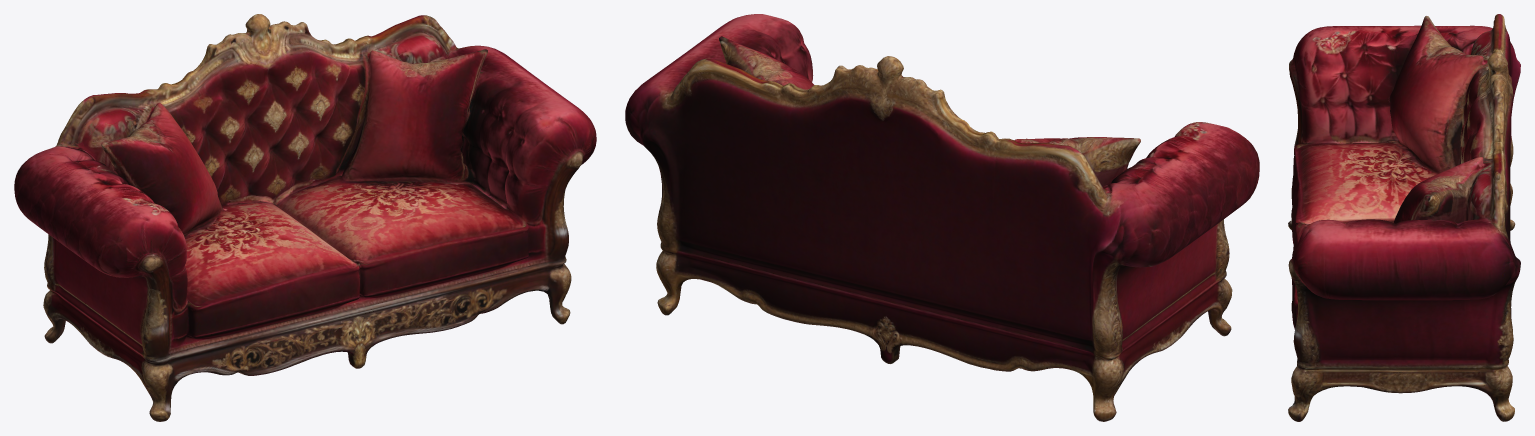
File: vintage_sofa_with_pil_0225105018_texture.fbx
3 renders of one model, left to right at view 1: azimuth 30°, elevation 25°; view 2: azimuth 150°, elevation 25°; view 3: azimuth 270°, elevation 25°, orthographic. The views are drawn at different scales.
Visible parts, largest first — view 1: Mesh_0; view 2: Mesh_0; view 3: Mesh_0.
Part boxes in pixels (box(x1,y1,x2,y2)): Mesh_0: box(14, 14, 596, 421); Mesh_0: box(625, 14, 1259, 421); Mesh_0: box(1288, 14, 1520, 421).
Size of the model in its own units: 200 by 109 by 83.8.
1 material, 1 textured.
